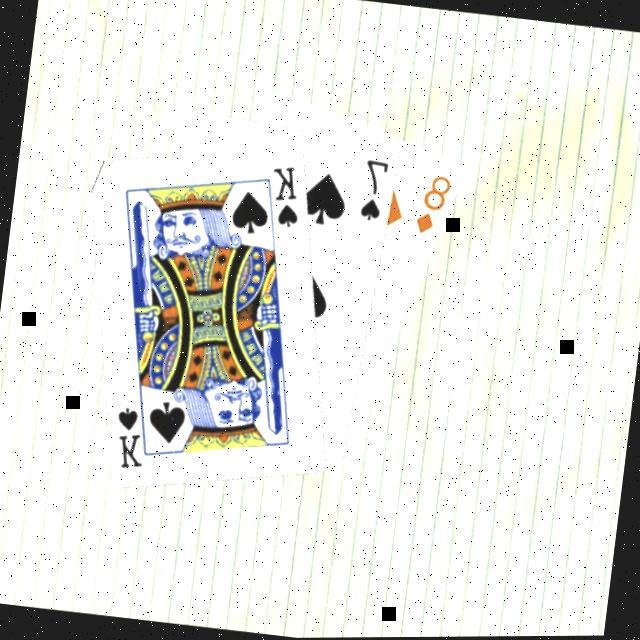7S: (356, 157, 394, 227)
8D: (411, 171, 456, 242)
KS: (108, 394, 159, 476), (264, 162, 308, 235)
